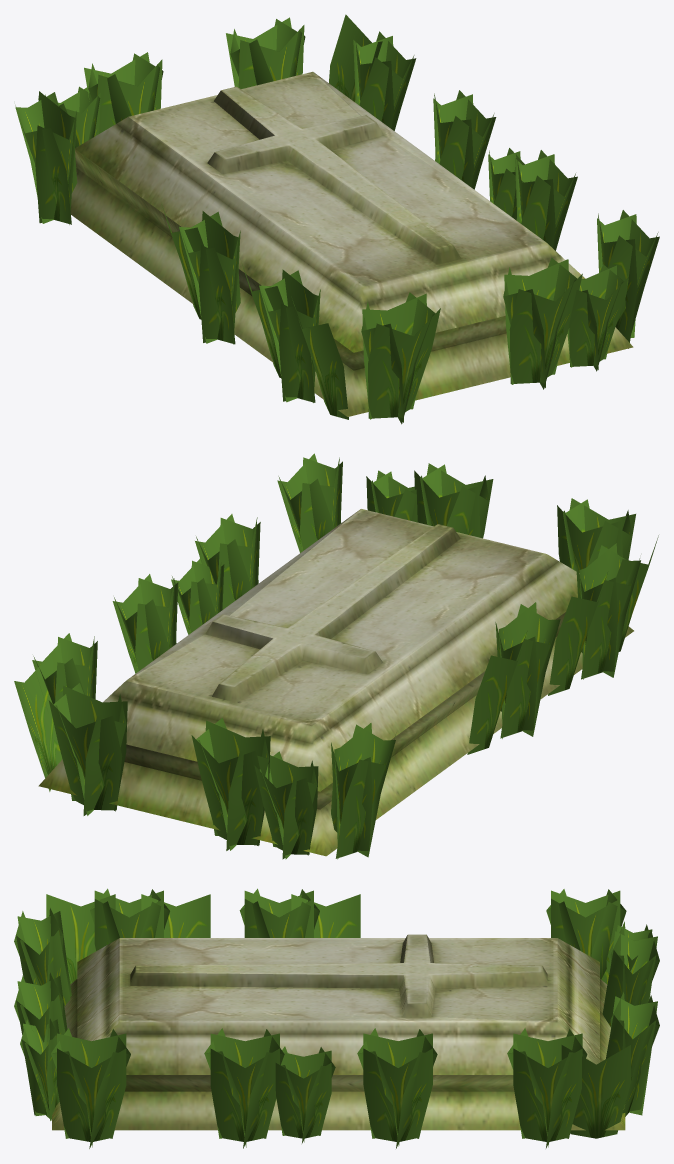
The model's file is a_SWTomb08.glb.
3 views of the same model, one above another, from view 1: azimuth 30°, elevation 25°; view 2: azimuth 150°, elevation 25°; view 3: azimuth 270°, elevation 25° (orthographic). The views are drawn at different scales.
Visible parts, largest first — view 1: a_SWTomb08; view 2: a_SWTomb08; view 3: a_SWTomb08.
Part boxes in pixels (box(x1,y1,x2,y2)): a_SWTomb08: box(15, 14, 659, 424); a_SWTomb08: box(14, 453, 658, 859); a_SWTomb08: box(14, 888, 659, 1148).
Bounding box in the file's own units: 1.25 × 0.3863 × 2.06.
2 materials, 2 textured.
